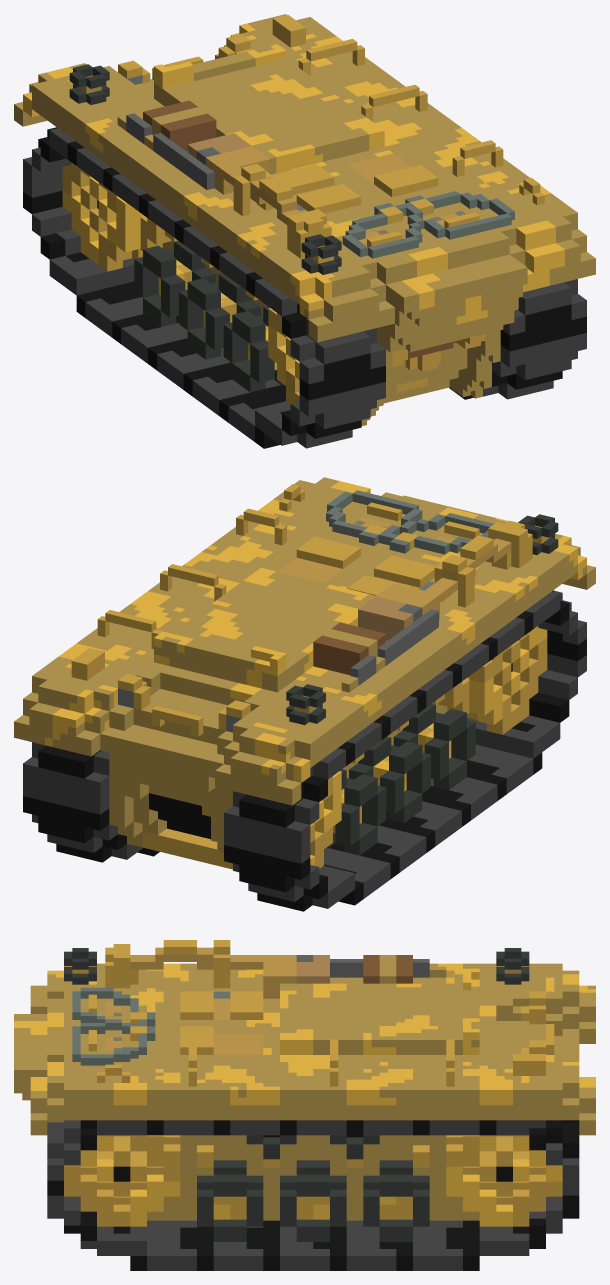
The model's file is Tank-1.obj.
The picture shows the model from 3 angles, top to bottom: view 1: azimuth 30°, elevation 25°; view 2: azimuth 150°, elevation 25°; view 3: azimuth 270°, elevation 25°; orthographic projection. The views are drawn at different scales.
Size of the model in its own units: 3.6 by 2.9 by 7.
Materials: 1 (1 with a texture image).
